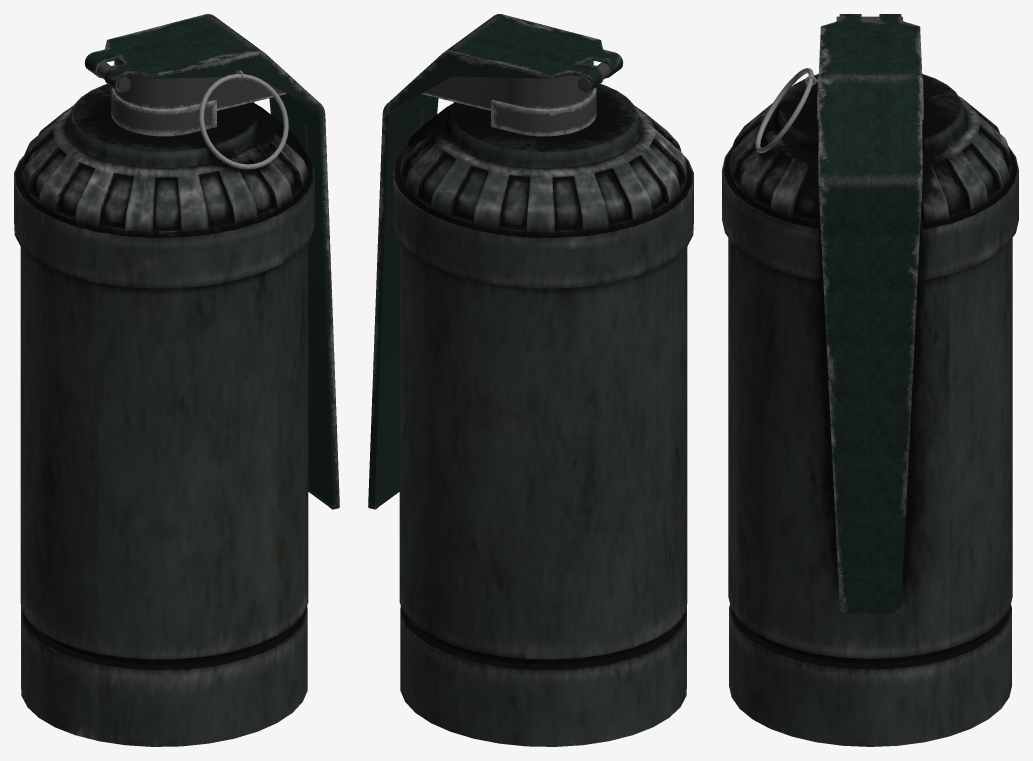
The model's file is grenade..glb.
The picture shows the model from 3 angles, left to right: view 1: azimuth 30°, elevation 25°; view 2: azimuth 150°, elevation 25°; view 3: azimuth 270°, elevation 25°; orthographic projection.
Parts seen in each view (by area): view 1: Grenade; view 2: Grenade; view 3: Grenade.
Boxes of the visible parts, <box> form: Grenade: <box>14,14,339,746</box>; Grenade: <box>368,14,693,746</box>; Grenade: <box>722,14,1018,746</box>.
Size of the model in its own units: 0.9365 by 1.96 by 0.8177.
Materials: 4 (4 with a texture image).
